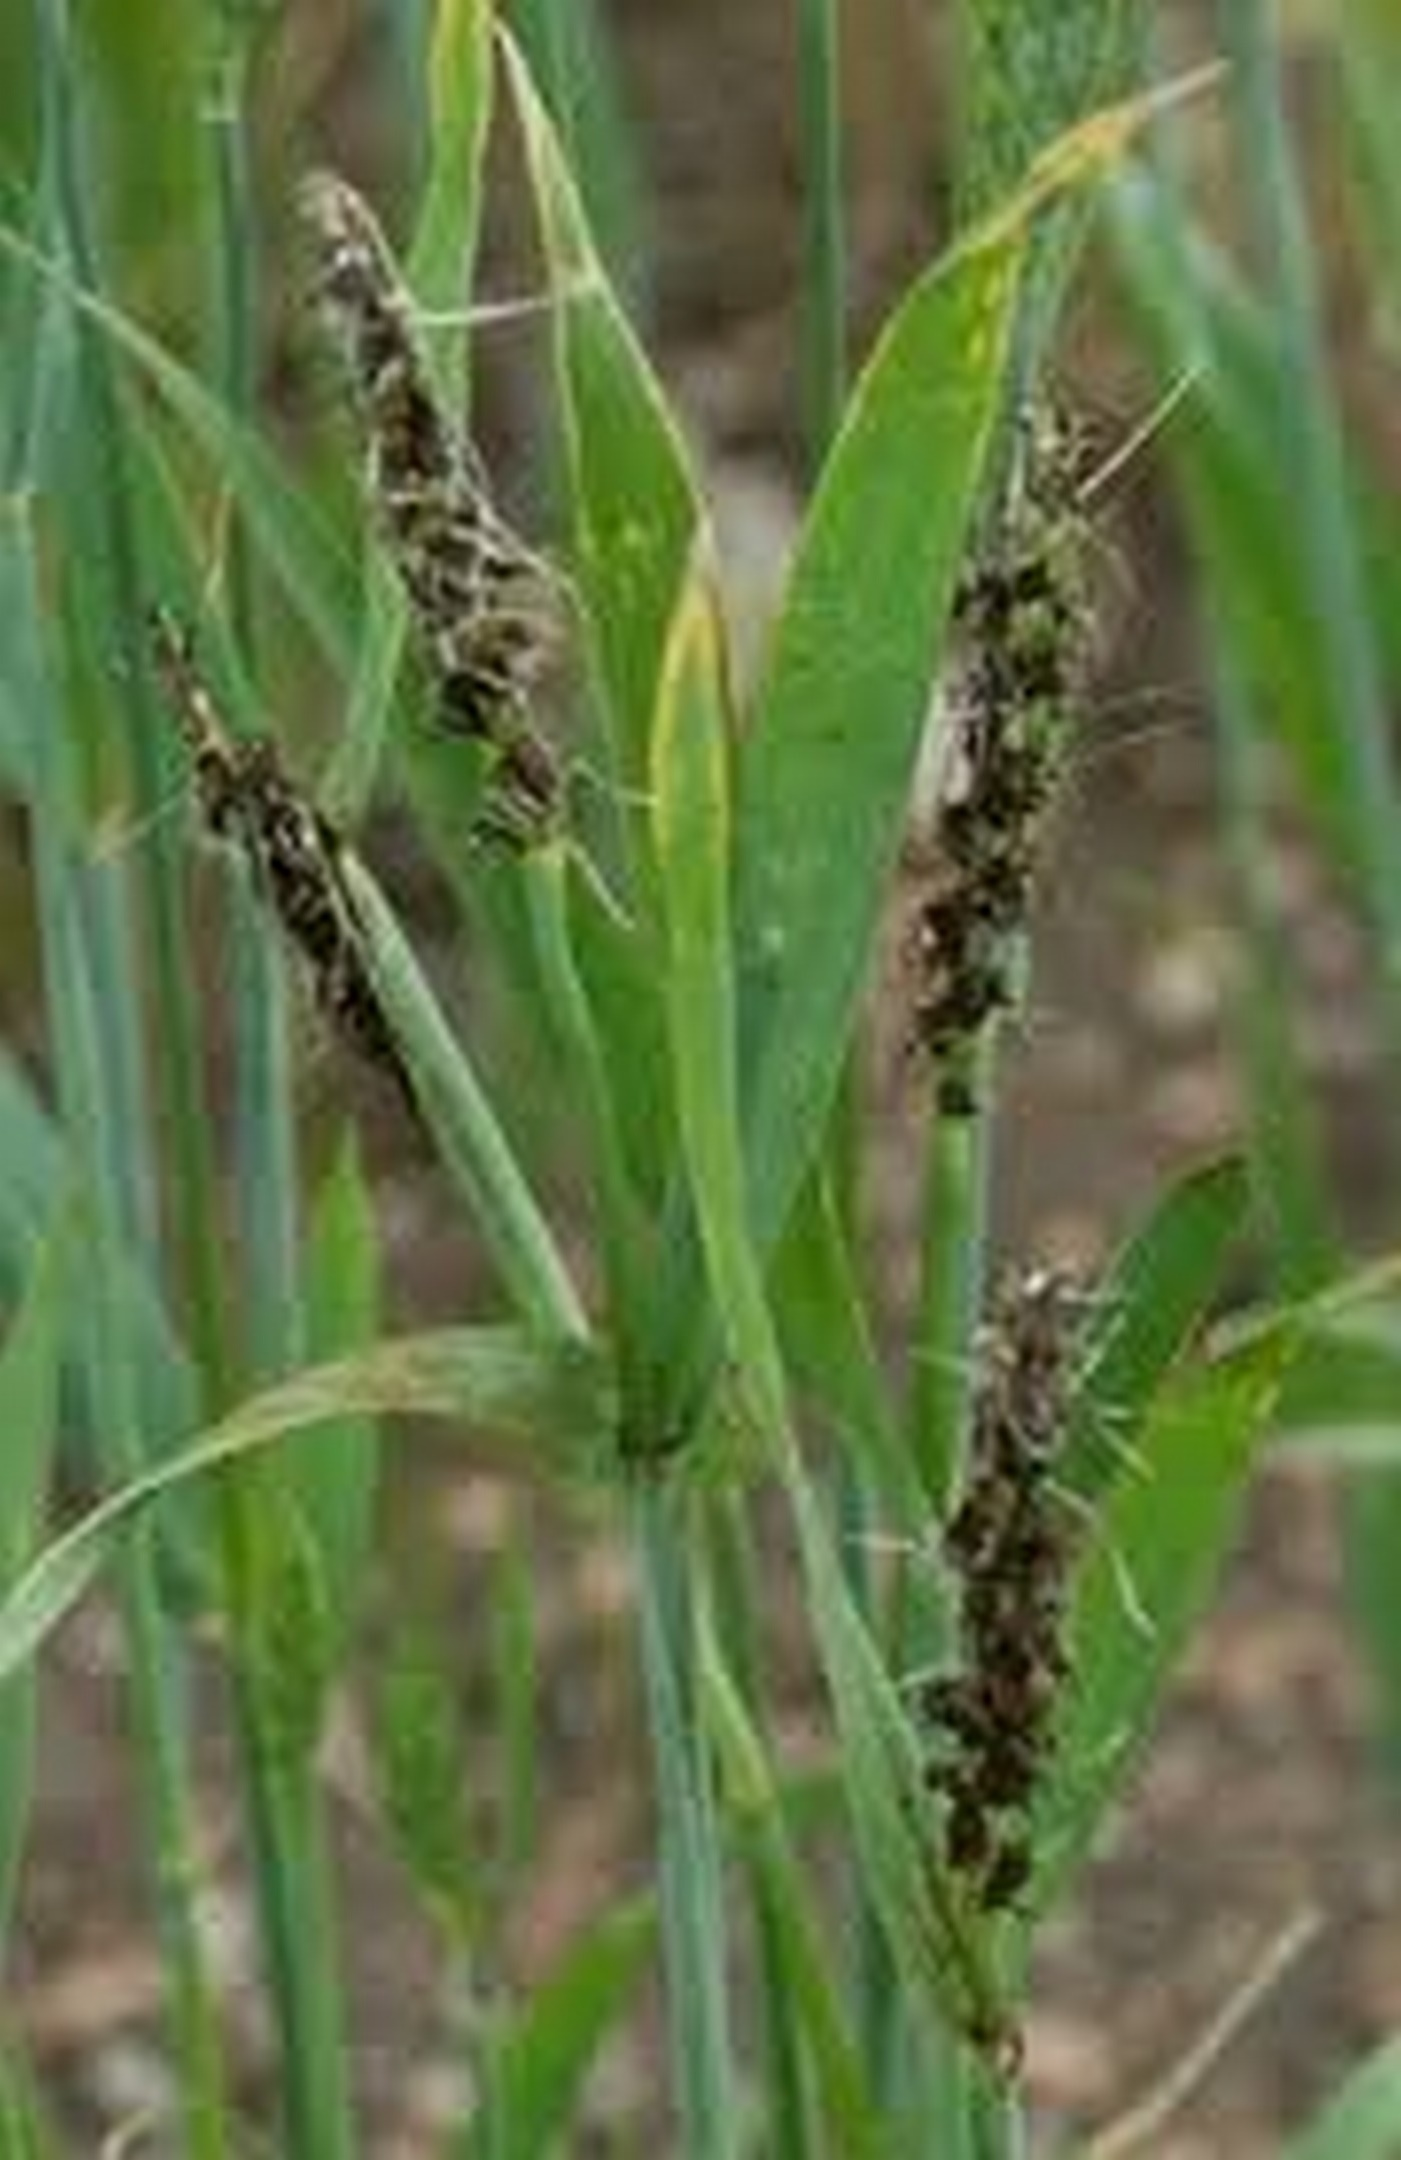Wheat Loose Smut: (871, 446, 1163, 1847), (165, 153, 612, 1019)
